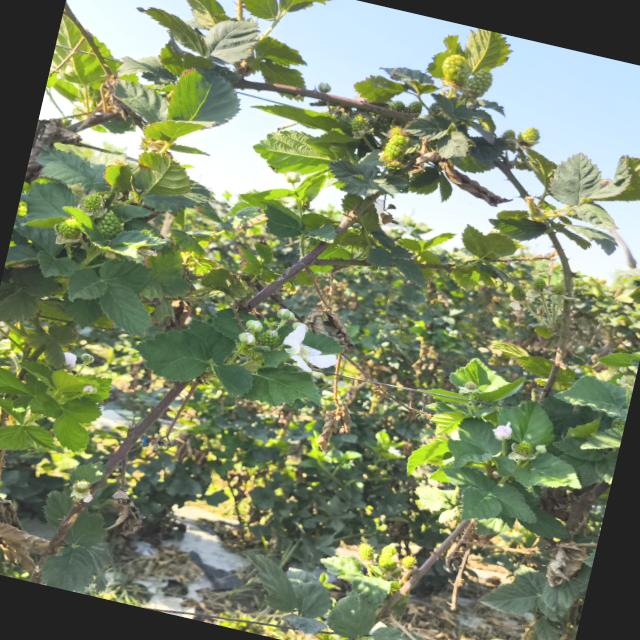boton: (277, 308, 295, 321), (245, 320, 262, 332), (238, 332, 254, 344), (534, 445, 546, 453)
flor: (283, 324, 335, 372)
verde: (442, 54, 470, 84), (54, 217, 82, 243), (467, 68, 492, 97), (97, 212, 122, 238), (384, 134, 408, 161)
